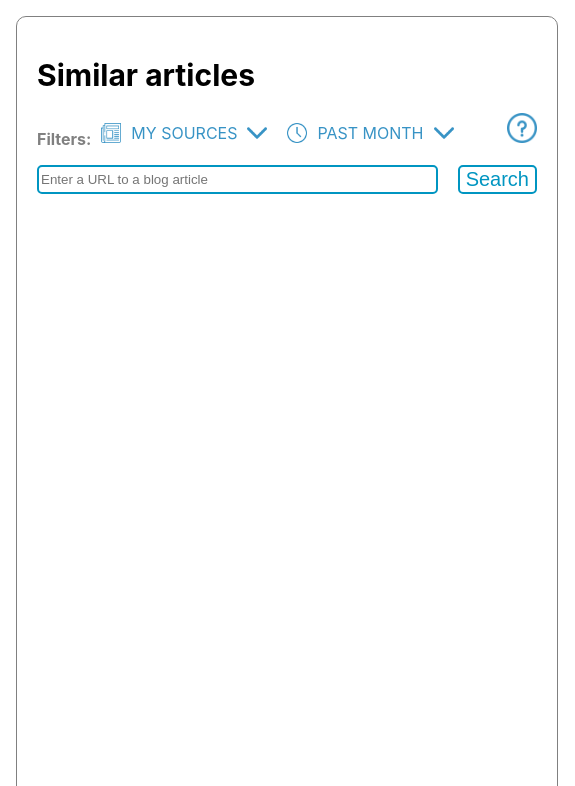
Test case: Searching a similar article › renders a validation error on bad input
The image size is (575, 786).
In the field with placeholder "Enter a URL to a blog article": point(238, 180) top-left (37, 165), bottom-right (438, 194), type "this is not an url"
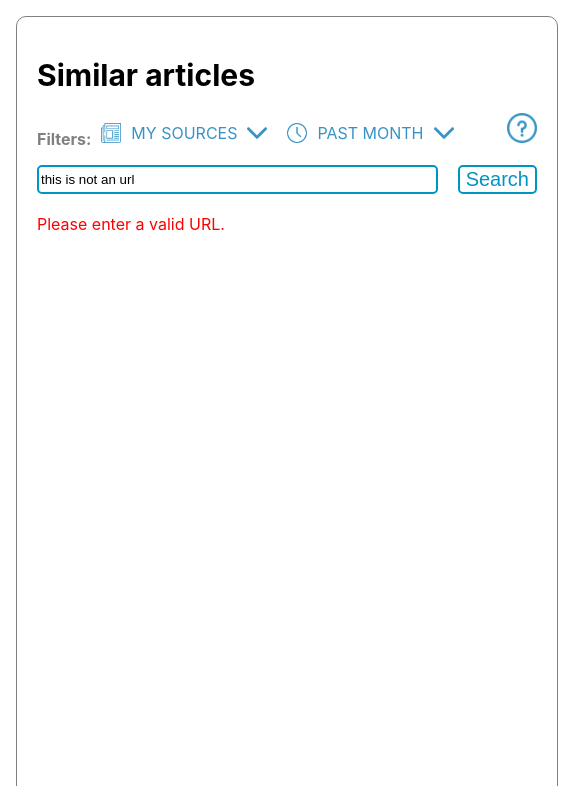
Check: the text with test id "SearchBarValidationError" reads "Please enter a valid URL.", box top-left (37, 214), bottom-right (225, 234)
